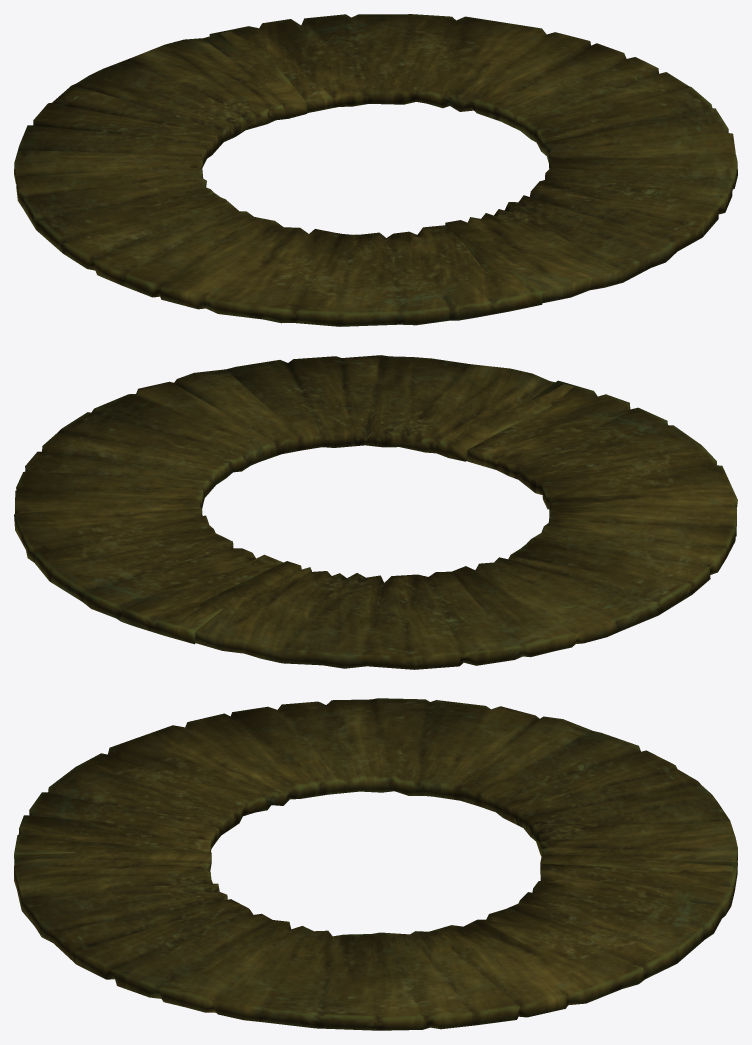
The model's file is SM_platform_circle_empty.fbx.
3 renders of one model, top to bottom at view 1: azimuth 30°, elevation 25°; view 2: azimuth 150°, elevation 25°; view 3: azimuth 270°, elevation 25°, orthographic. The views are drawn at different scales.
Visible parts, largest first — view 1: platform_circle_empty; view 2: platform_circle_empty; view 3: platform_circle_empty.
Part boxes in pixels (<box>): platform_circle_empty: <box>14,14,737,326</box>; platform_circle_empty: <box>14,355,737,669</box>; platform_circle_empty: <box>14,698,737,1030</box>.
Bounding box in the file's own units: 1672 × 45.99 × 1599.
